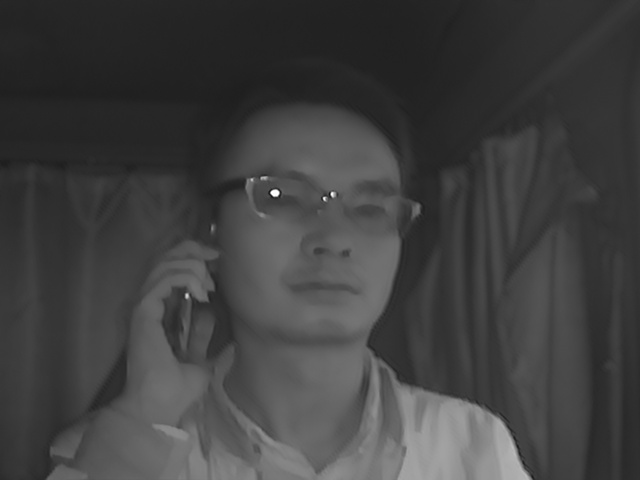hand: (125, 241, 227, 401)
